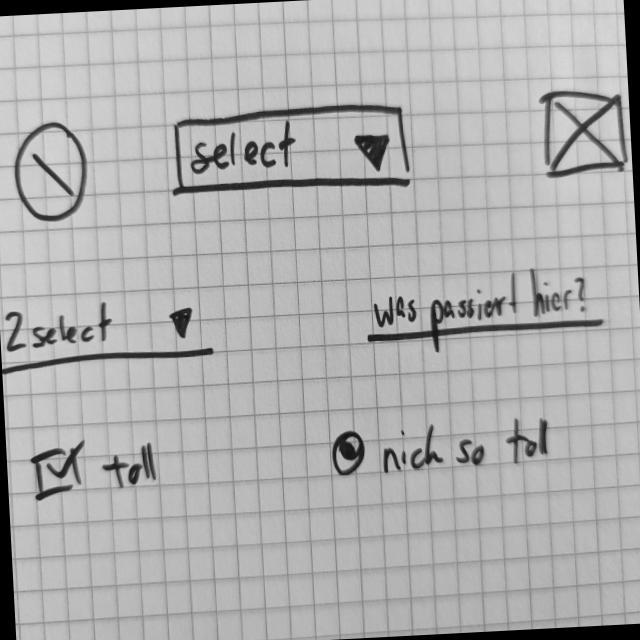checkbox: (28, 432, 161, 507)
icon-button: (9, 118, 92, 227)
image: (534, 82, 632, 185)
input: (362, 258, 608, 362)
radio: (328, 412, 560, 482)
select: (168, 98, 417, 204), (0, 291, 218, 379)
